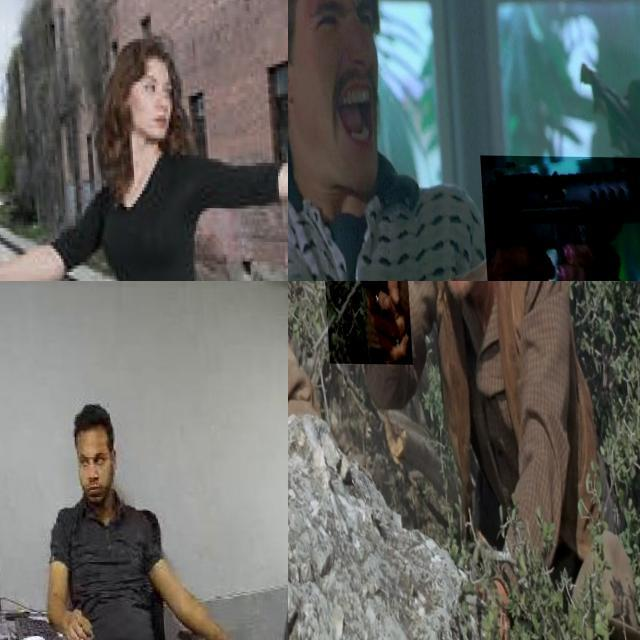gun-knife-thesis - v11 Yolov5 augmented: (477, 154, 640, 281), (318, 281, 408, 363)
